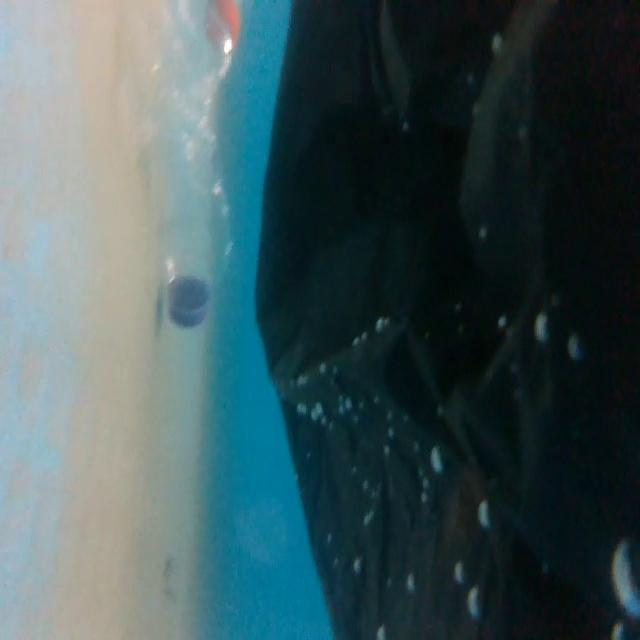plastic bags: (263, 8, 640, 639)
plastic bottle: (123, 0, 247, 325)
